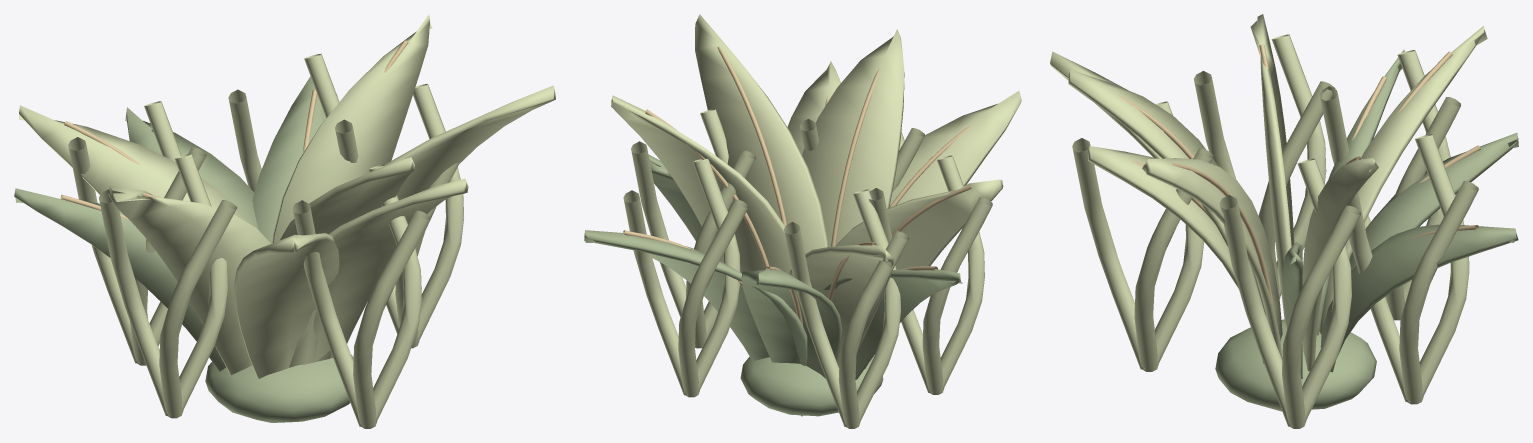
File: bio_mist_leaf_19_far.glb
The picture shows the model from 3 angles, left to right: view 1: azimuth 30°, elevation 25°; view 2: azimuth 150°, elevation 25°; view 3: azimuth 270°, elevation 25°; orthographic projection. The views are drawn at different scales.
Visible parts, largest first — view 1: Spiral filament.012, Spiral filament.006, Cupped condensate leaf.008, Cupped condensate leaf.007, Cupped condensate leaf.004, Cupped condensate leaf.010, Root rosette, Cupped condensate leaf.001, Cupped condensate leaf.009, Spiral filament, Spiral filament.003, Cupped condensate leaf.002 (+4 smaller); view 2: Cupped condensate leaf.002, Cupped condensate leaf.005, Spiral filament.009, Spiral filament.003, Cupped condensate leaf.008, Spiral filament.012, Cupped condensate leaf.007, Cupped condensate leaf.003, Cupped condensate leaf.004, Cupped condensate leaf.006, Spiral filament, Root rosette (+10 smaller); view 3: Spiral filament, Spiral filament.009, Spiral filament.006, Spiral filament.012, Root rosette, Cupped condensate leaf.003, Cupped condensate leaf.001, Cupped condensate leaf.005, Spiral filament.003, Cupped condensate leaf.004, Cupped condensate leaf.006, Cupped condensate leaf.002 (+6 smaller).
Part boxes in pixels (<box>): Spiral filament.012: <box>99,153,237,418</box>; Spiral filament.006: <box>292,164,431,428</box>; Cupped condensate leaf.008: <box>272,14,432,243</box>; Cupped condensate leaf.007: <box>234,233,339,378</box>; Cupped condensate leaf.004: <box>108,185,270,374</box>; Cupped condensate leaf.010: <box>313,178,468,361</box>; Root rosette: <box>205,354,353,422</box>; Cupped condensate leaf.001: <box>19,105,250,224</box>; Cupped condensate leaf.009: <box>14,188,225,371</box>; Spiral filament: <box>335,84,463,348</box>; Spiral filament.003: <box>68,101,206,365</box>; Cupped condensate leaf.002: <box>279,157,414,367</box>; Cupped condensate leaf.002: <box>802,29,904,246</box>; Cupped condensate leaf.005: <box>695,14,828,253</box>; Spiral filament.009: <box>623,158,748,397</box>; Spiral filament.003: <box>784,189,908,428</box>; Cupped condensate leaf.008: <box>611,95,791,273</box>; Spiral filament.012: <box>868,155,992,394</box>; Cupped condensate leaf.007: <box>889,91,1021,206</box>; Cupped condensate leaf.003: <box>584,230,807,365</box>; Cupped condensate leaf.004: <box>835,179,1003,369</box>; Cupped condensate leaf.006: <box>741,269,842,416</box>; Spiral filament: <box>631,109,755,348</box>; Root rosette: <box>740,355,883,416</box>; Spiral filament: <box>1219,158,1360,428</box>; Spiral filament.009: <box>1349,134,1478,404</box>; Spiral filament.006: <box>1072,101,1213,371</box>; Spiral filament.012: <box>1194,34,1335,299</box>; Root rosette: <box>1215,319,1376,411</box>; Cupped condensate leaf.003: <box>1320,224,1518,372</box>; Cupped condensate leaf.001: <box>1319,26,1487,334</box>; Cupped condensate leaf.005: <box>1142,158,1282,359</box>; Spiral filament.003: <box>1319,50,1460,320</box>; Cupped condensate leaf.004: <box>1250,14,1294,323</box>; Cupped condensate leaf.006: <box>1349,132,1518,271</box>; Cupped condensate leaf.002: <box>1068,69,1227,246</box>.
Size of the model in its own units: 1.83 by 1.38 by 1.74.
